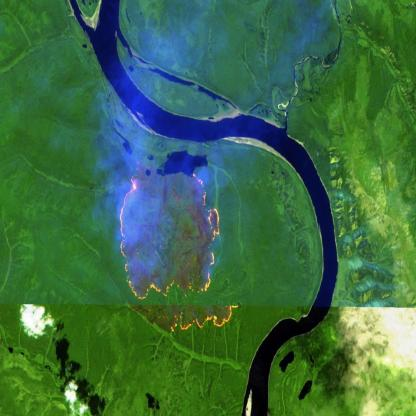fire: (116, 164, 242, 332)
